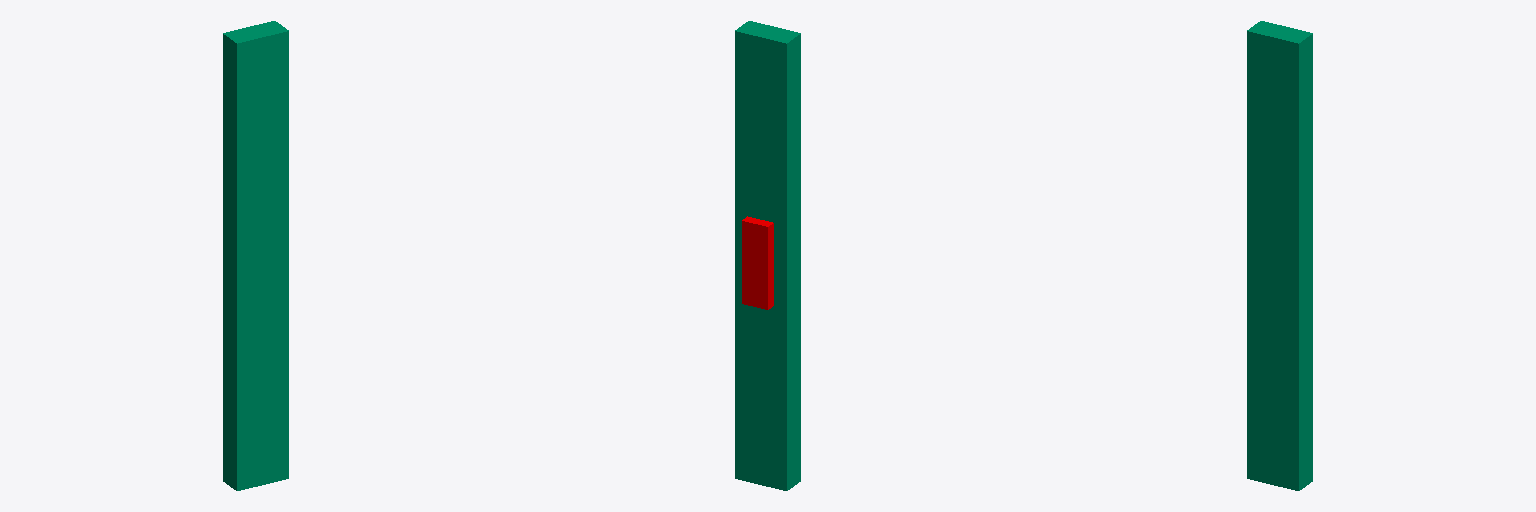
robot.urdf — knife:
<?xml version='1.0' encoding='utf-8'?>
<robot name="knife">
  <link name="base" /><joint name="joint_0" type="fixed"><origin xyz="0 0 0" rpy="0 0 0" /><parent link="base" /><child link="link_0" /></joint><link name="link_1">
    <visual name="link_1">
      <origin xyz="0 0.005938 0" rpy="0 0 0" />
      <geometry>
        <box size="0.009007140249762692 0.003443021028094752 0.027119214660307662" /></geometry>
    <material name="red"><color rgba="1 0 0 1" /></material></visual>
    <collision>
      <origin xyz="0 0.005938 0" rpy="0 0 0" />
      <geometry>
        <box size="0.009007140249762692 0.003443021028094752 0.027119214660307662" /></geometry>
    </collision>
    </link>
  <joint name="joint_1" type="prismatic">
    <origin xyz="0 0 0" />
    <axis xyz="0 0 1" />
    <child link="link_1" />
    <parent link="link_0" />
    <limit lower="-0.043158" upper="0.006842" effort="100.0" velocity="1.0" />
  </joint>
  <link name="link_0">
    <visual name="link_0">
      <origin xyz="0 0 0" />
      <geometry>
        <box size="0.01783555242281266 0.008433748472141681 0.14590237013369203" /></geometry>
    </visual>
    <collision>
      <origin xyz="0 0 0" />
      <geometry>
        <box size="0.01783555242281266 0.008433748472141681 0.14590237013369203" /></geometry>
    </collision>
    </link>
</robot>

--- Render facts (derived) ---
3 views of the same robot in one strip: view 1: azimuth 30°, elevation 25°; view 2: azimuth 150°, elevation 25°; view 3: azimuth 330°, elevation 25° (orthographic).
Robot: knife — 3 links, 2 joints (1 prismatic, 1 fixed); root link base; default pose: every joint at zero.
Visible links, largest first — view 1: link_0; view 2: link_0, link_1; view 3: link_0.
Boxes of the visible links, box(x1,y1,x2,y2) form: link_0: box(223, 21, 288, 490); link_0: box(735, 21, 800, 490); link_1: box(742, 216, 773, 309); link_0: box(1247, 21, 1312, 490).
Size in the robot's own frame: 0.0178 by 0.0119 by 0.1459 metres.
Geometry: primitives only (box / cylinder / sphere), no mesh files.
